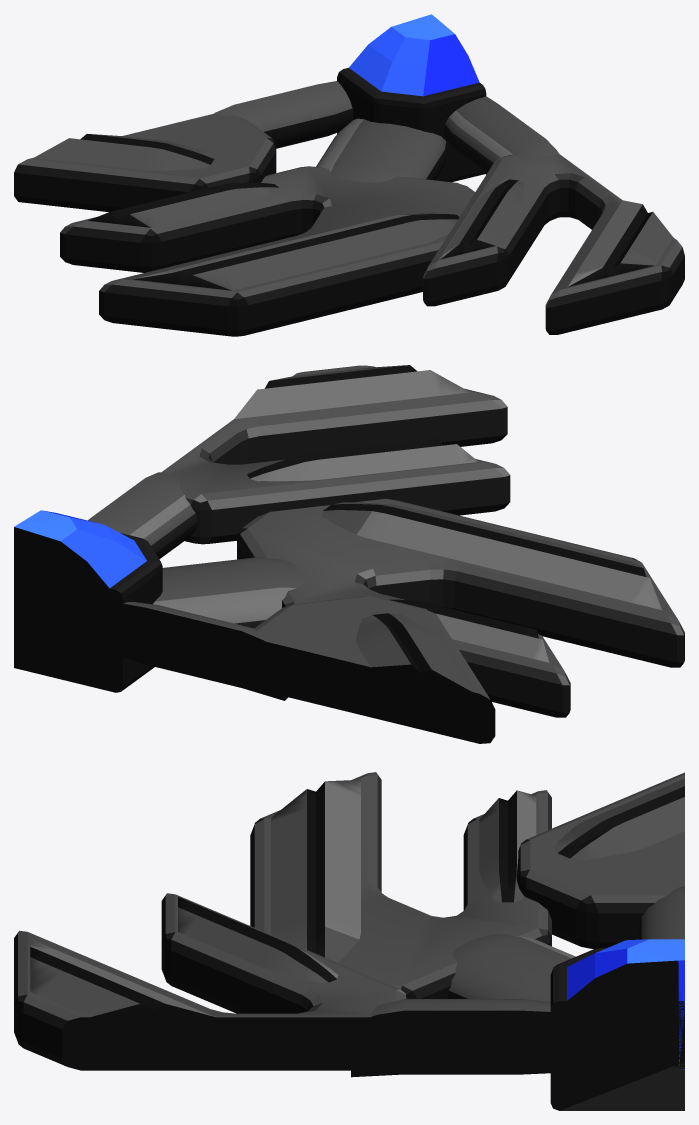
File: dark_saw_203.glb
3 renders of one model, top to bottom at view 1: azimuth 30°, elevation 25°; view 2: azimuth 150°, elevation 25°; view 3: azimuth 270°, elevation 25°, orthographic. The views are drawn at different scales.
Visible parts, largest first — view 1: dark_saw_203_under2_plate, dark_saw_203_arm2_plate, dark_saw_203_arm3_plate, dark_saw_203_under2_ridge0, dark_saw_203_gem, dark_saw_203_under2_rod, dark_saw_203_gem_bezel, dark_saw_203_arm3_rod, dark_saw_203_arm2_rod, dark_saw_203_arm2_ridge0, dark_saw_203_arm3_ridge0, dark_saw_203_under2_ridge1 (+1 smaller); view 2: dark_saw_203_under2_plate, dark_saw_203_arm2_plate, dark_saw_203_arm3_plate, dark_saw_203_under2_ridge0, dark_saw_203_arm3_rod, dark_saw_203_gem_bezel, dark_saw_203_gem, dark_saw_203_under2_rod, dark_saw_203_arm2_ridge0, dark_saw_203_arm2_ridge1, dark_saw_203_arm3_ridge0, dark_saw_203_arm2_rod (+1 smaller); view 3: dark_saw_203_arm2_plate, dark_saw_203_under2_plate, dark_saw_203_gem_bezel, dark_saw_203_arm2_rod, dark_saw_203_under2_ridge0, dark_saw_203_arm3_plate, dark_saw_203_gem, dark_saw_203_arm2_ridge0, dark_saw_203_under2_rod, dark_saw_203_arm3_ridge0, dark_saw_203_arm2_ridge1, dark_saw_203_under2_ridge1 (+1 smaller).
Boxes of the visible parts, box(x1,y1,x2,y2) form: dark_saw_203_under2_plate: box(60, 166, 474, 336); dark_saw_203_arm2_plate: box(423, 153, 684, 334); dark_saw_203_arm3_plate: box(14, 114, 276, 211); dark_saw_203_under2_ridge0: box(133, 212, 459, 290); dark_saw_203_gem: box(349, 14, 479, 96); dark_saw_203_under2_rod: box(316, 118, 447, 182); dark_saw_203_gem_bezel: box(337, 67, 486, 182); dark_saw_203_arm3_rod: box(214, 81, 353, 148); dark_saw_203_arm2_rod: box(443, 96, 559, 174); dark_saw_203_arm2_ridge0: box(568, 200, 673, 286); dark_saw_203_arm3_ridge0: box(34, 134, 214, 170); dark_saw_203_under2_ridge1: box(88, 183, 279, 227); dark_saw_203_under2_plate: box(237, 498, 684, 717); dark_saw_203_arm2_plate: box(161, 365, 510, 544); dark_saw_203_arm3_plate: box(237, 596, 495, 743); dark_saw_203_under2_ridge0: box(322, 502, 661, 609); dark_saw_203_arm3_rod: box(83, 597, 287, 700); dark_saw_203_gem_bezel: box(14, 533, 162, 692); dark_saw_203_gem: box(14, 510, 146, 629); dark_saw_203_under2_rod: box(153, 557, 304, 628); dark_saw_203_arm2_ridge0: box(234, 365, 469, 418); dark_saw_203_arm2_ridge1: box(247, 439, 478, 481); dark_saw_203_arm3_ridge0: box(356, 613, 478, 702); dark_saw_203_arm2_rod: box(88, 472, 197, 558); dark_saw_203_arm2_plate: box(14, 893, 409, 1070); dark_saw_203_under2_plate: box(250, 772, 551, 998); dark_saw_203_gem_bezel: box(550, 947, 684, 1110); dark_saw_203_arm2_rod: box(351, 999, 599, 1077); dark_saw_203_under2_ridge0: box(271, 779, 360, 962); dark_saw_203_arm3_plate: box(516, 772, 684, 948); dark_saw_203_gem: box(563, 939, 684, 1069); dark_saw_203_arm2_ridge0: box(30, 939, 227, 1026); dark_saw_203_under2_rod: box(447, 934, 575, 1001); dark_saw_203_arm3_ridge0: box(553, 778, 684, 860); dark_saw_203_arm2_ridge1: box(178, 897, 338, 982); dark_saw_203_under2_ridge1: box(479, 790, 536, 902).
Bounding box in the file's own units: 21.97 × 5.62 × 22.7.
